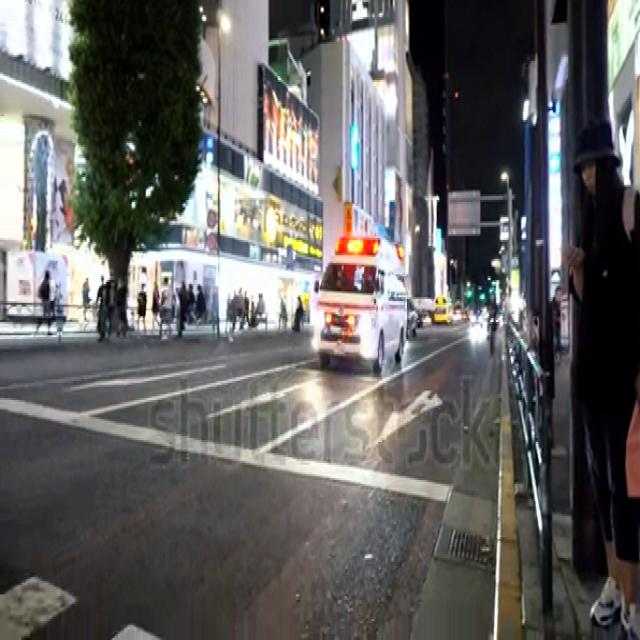ambulance: (308, 236, 408, 375)
